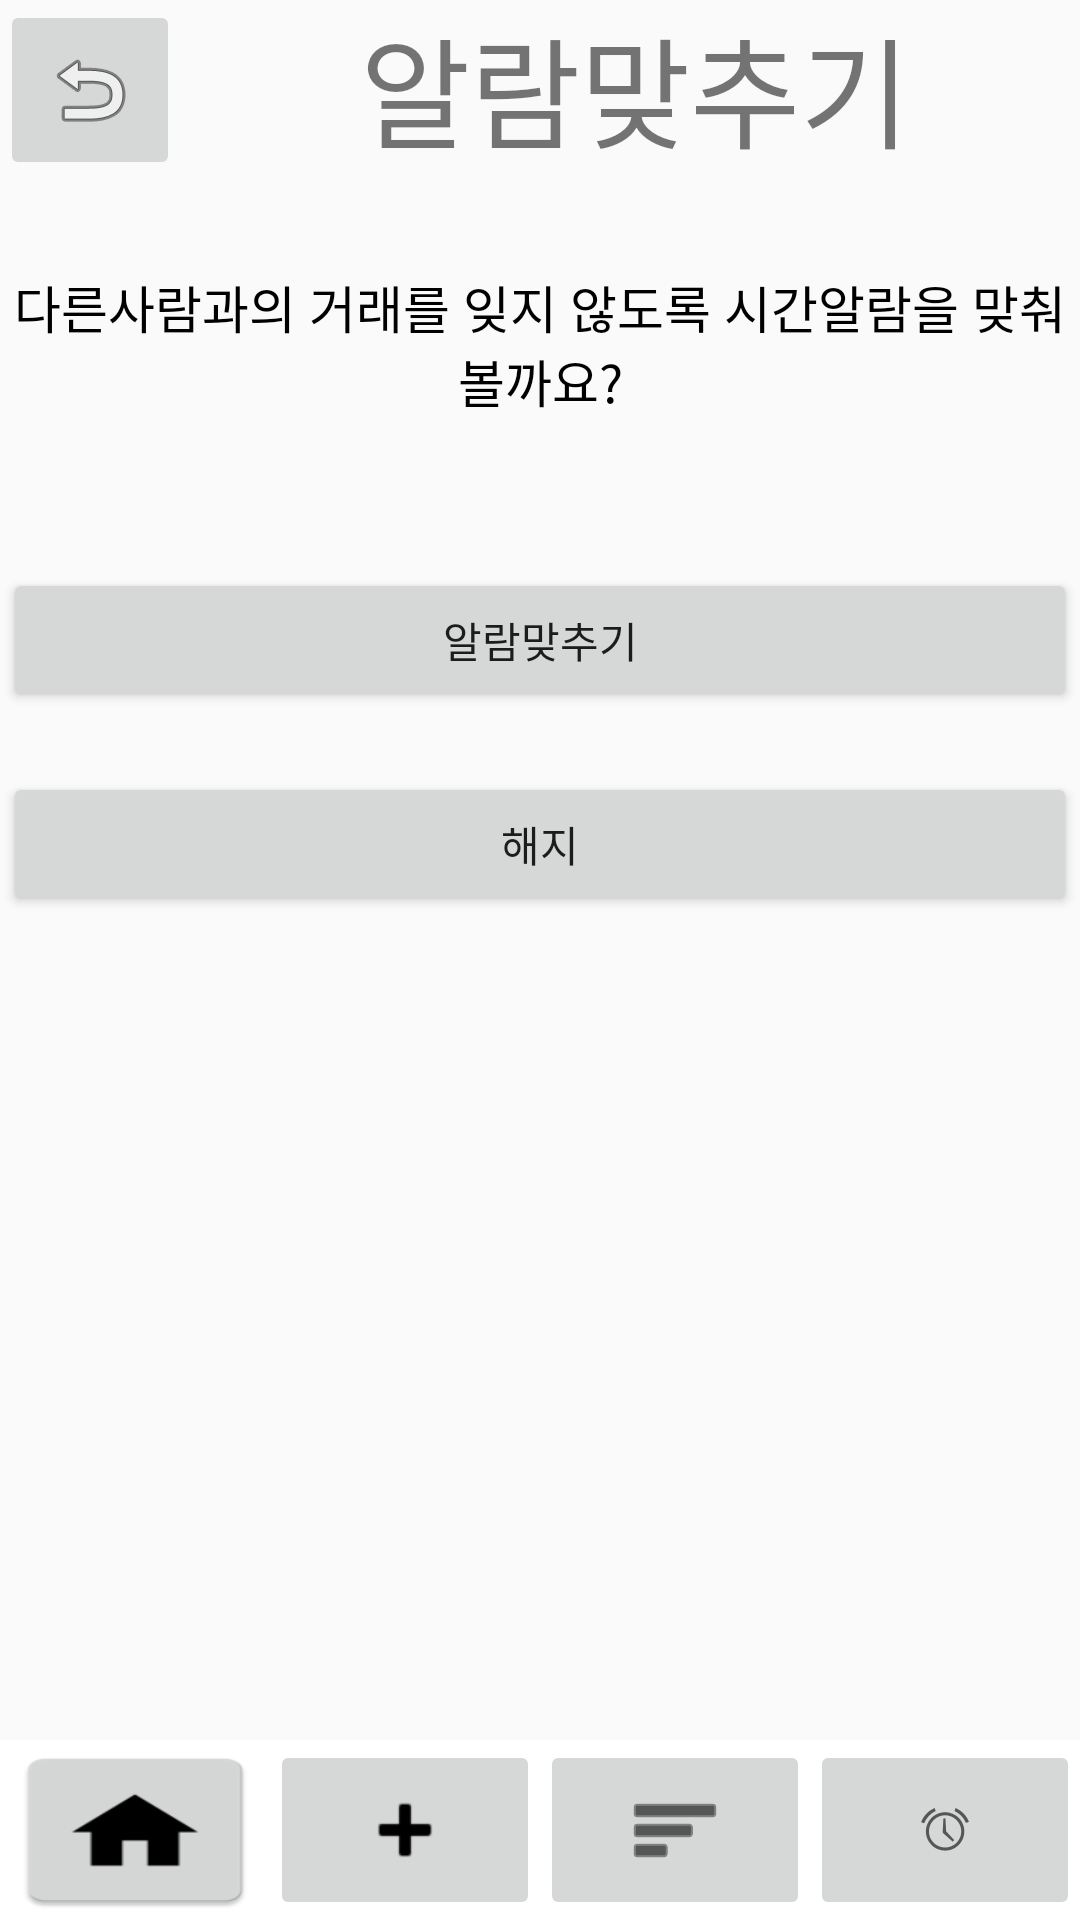

Icons on this 1080*1920 Android screen, each with the point to tap as point (x, y):
add: point (405, 1830)
revert: point (90, 90)
sort by size: point (675, 1830)
